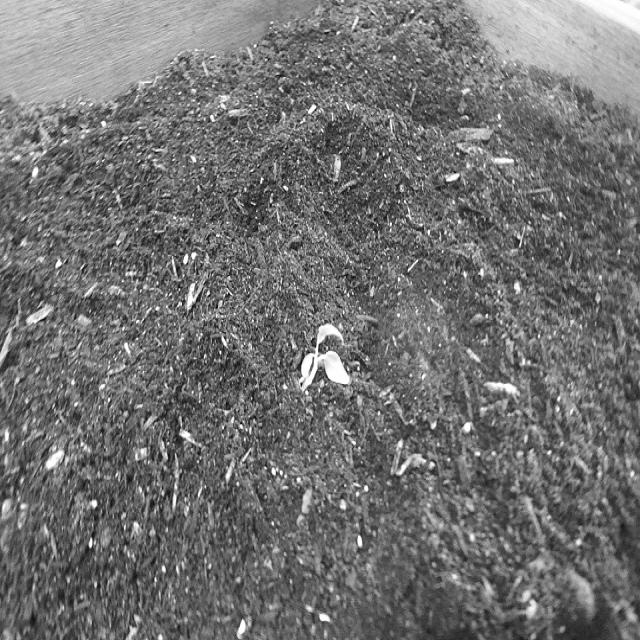Healthy: (298, 316, 352, 403)
